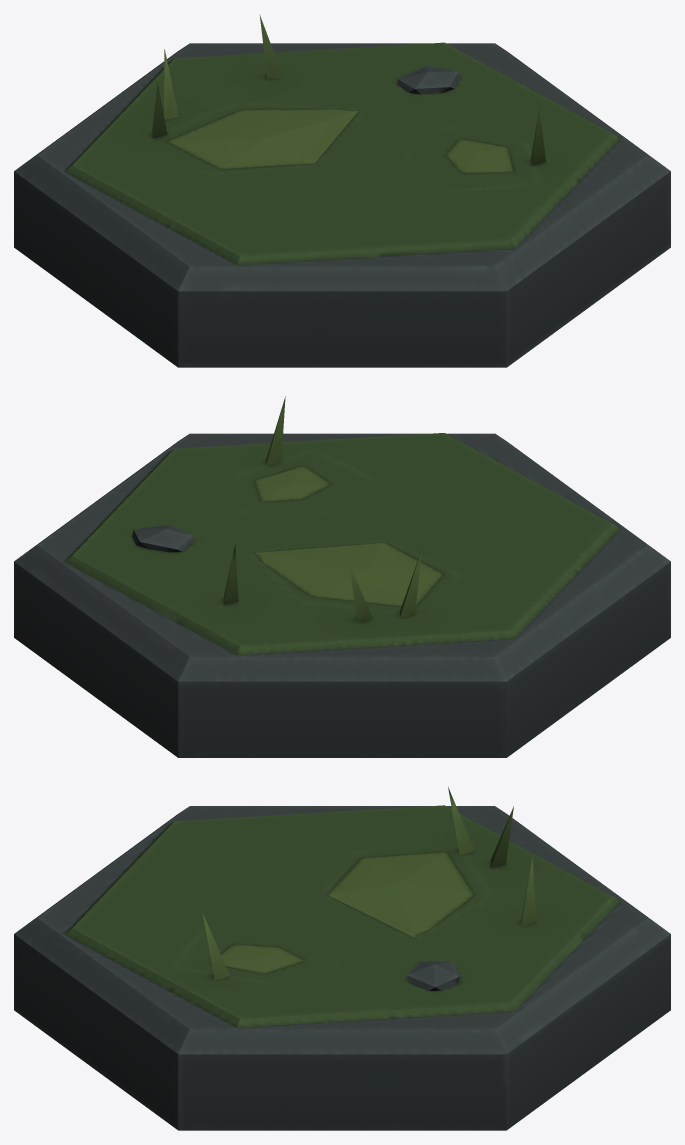
File: tile_hex_moss.glb
The picture shows the model from 3 angles, top to bottom: view 1: azimuth 30°, elevation 25°; view 2: azimuth 150°, elevation 25°; view 3: azimuth 270°, elevation 25°; orthographic projection.
Parts seen in each view (by area): view 1: tile_hex_moss; view 2: tile_hex_moss; view 3: tile_hex_moss.
Boxes of the visible parts, box(x1,y1,x2,y2) form: tile_hex_moss: box(14, 14, 670, 367); tile_hex_moss: box(14, 396, 670, 757); tile_hex_moss: box(14, 787, 670, 1130).
Bounding box in the file's own units: 1.12 × 0.3476 × 1.29.
Materials: 1 (1 with a texture image).
